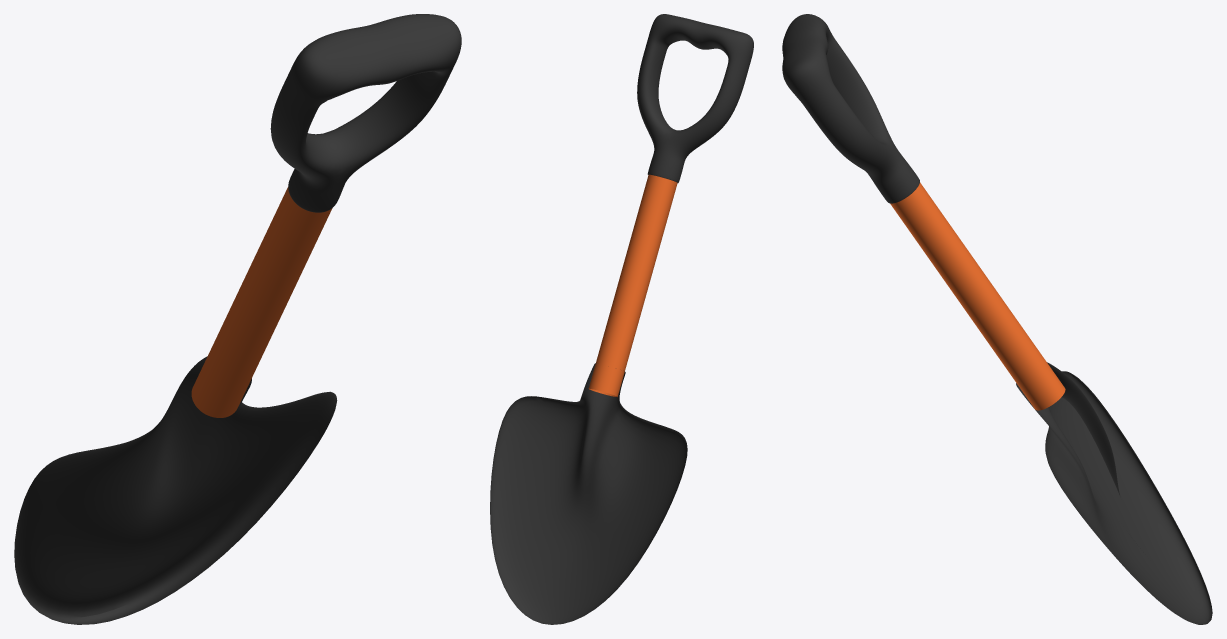
Rendered from spade.glb.
The picture shows the model from 3 angles, left to right: view 1: azimuth 30°, elevation 25°; view 2: azimuth 150°, elevation 25°; view 3: azimuth 270°, elevation 25°; orthographic projection. The views are drawn at different scales.
Parts seen in each view (by area): view 1: Circle, Circle.002, Circle.001; view 2: Circle, Circle.002, Circle.001; view 3: Circle, Circle.002, Circle.001.
Boxes of the visible parts, box(x1,y1,x2,y2) form: Circle: box(14, 356, 337, 624); Circle.002: box(270, 14, 461, 212); Circle.001: box(191, 187, 332, 417); Circle: box(490, 363, 687, 624); Circle.002: box(637, 14, 753, 182); Circle.001: box(588, 174, 677, 397); Circle: box(1016, 362, 1212, 624); Circle.002: box(782, 14, 919, 203); Circle.001: box(890, 182, 1065, 410).
Bounding box in the file's own units: 5.24 × 13.21 × 8.8.
